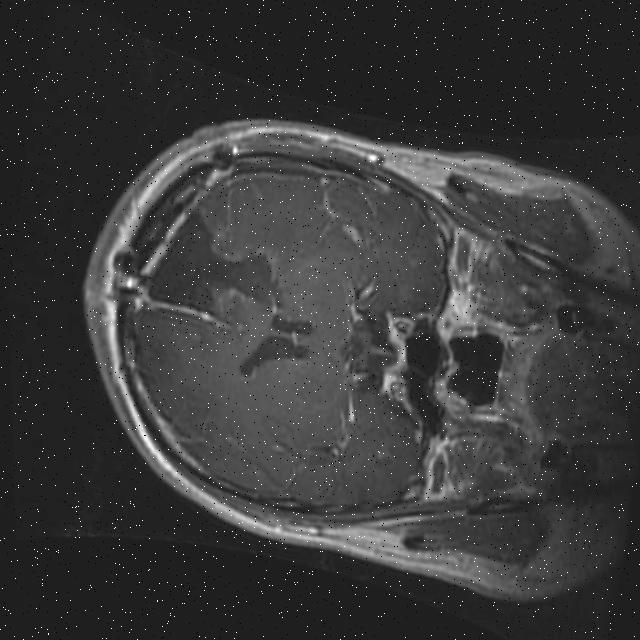Glioma: (141, 198, 285, 326)
